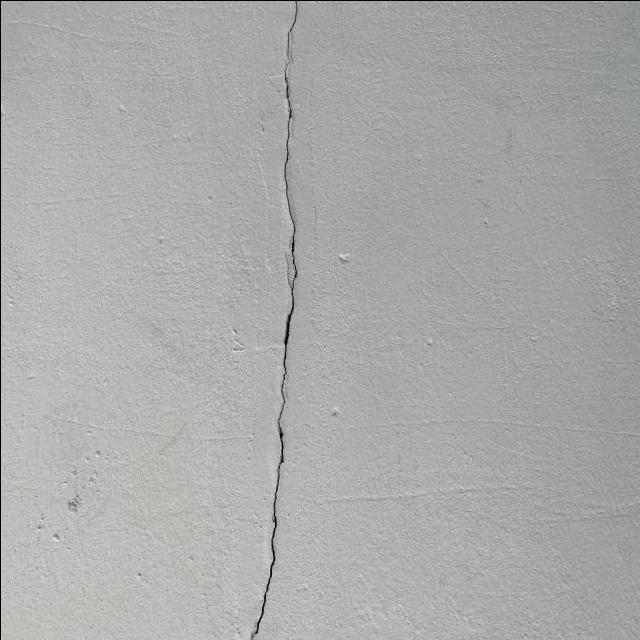SurfaceCrack: (245, 0, 337, 414)
